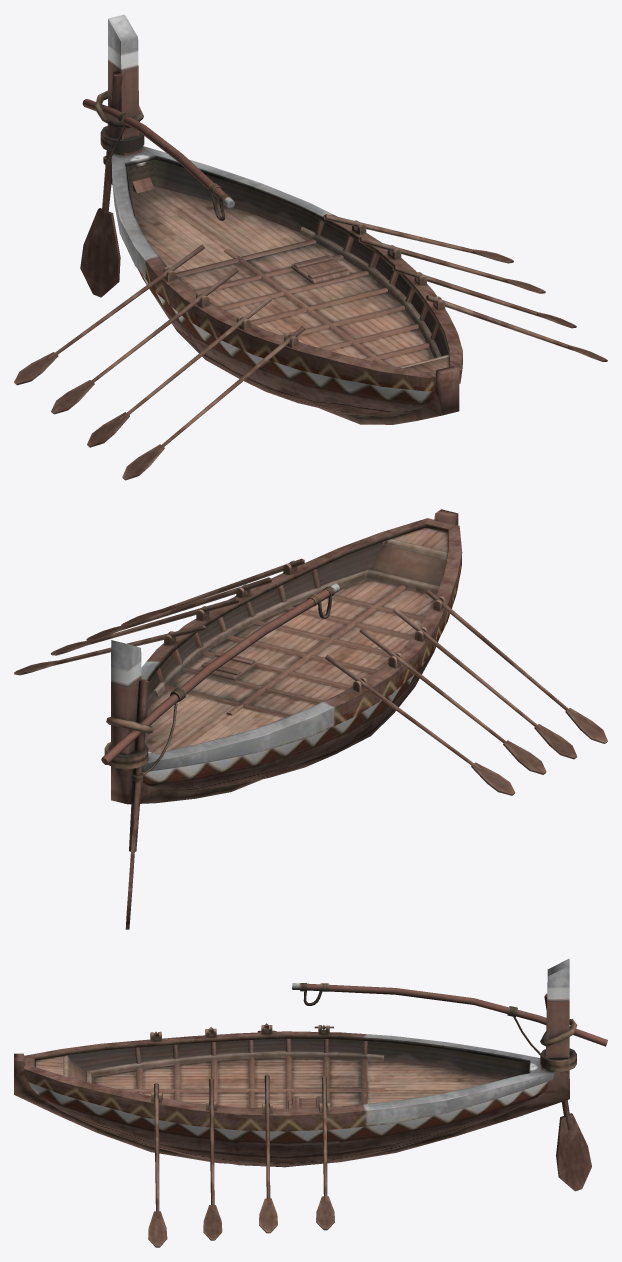
File: body-base.glb
3 views of the same model, one above another, from view 1: azimuth 30°, elevation 25°; view 2: azimuth 150°, elevation 25°; view 3: azimuth 270°, elevation 25° (orthographic). The views are drawn at different scales.
Bounding box in the file's own units: 6.06 × 3.25 × 7.48.
Materials: 1 (1 with a texture image).
